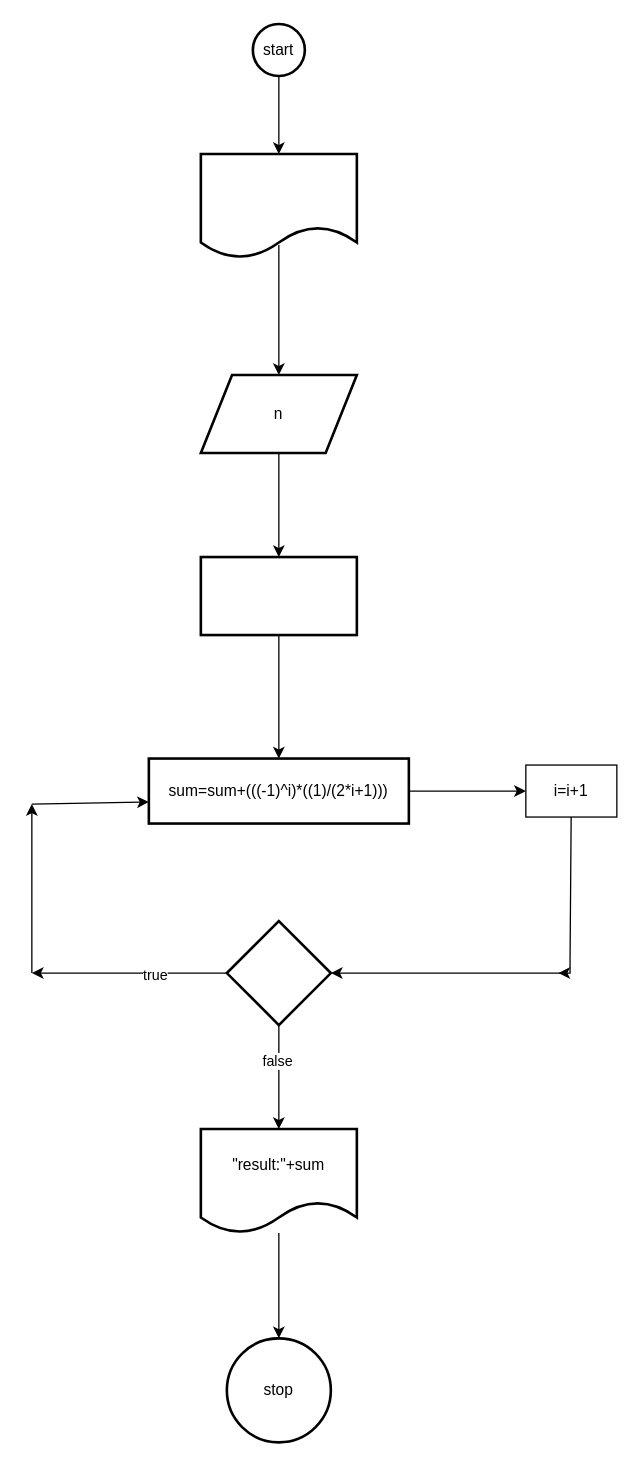
Some shapes in this 640 by 1465 pixel diagram are drawn without their labels. Here are the shapes that lost their labels. From the top down, the centre of each, then its label:
point 278,205: "enter n number:"
point 278,595: sum=0 i=0
point 278,972: i<n
